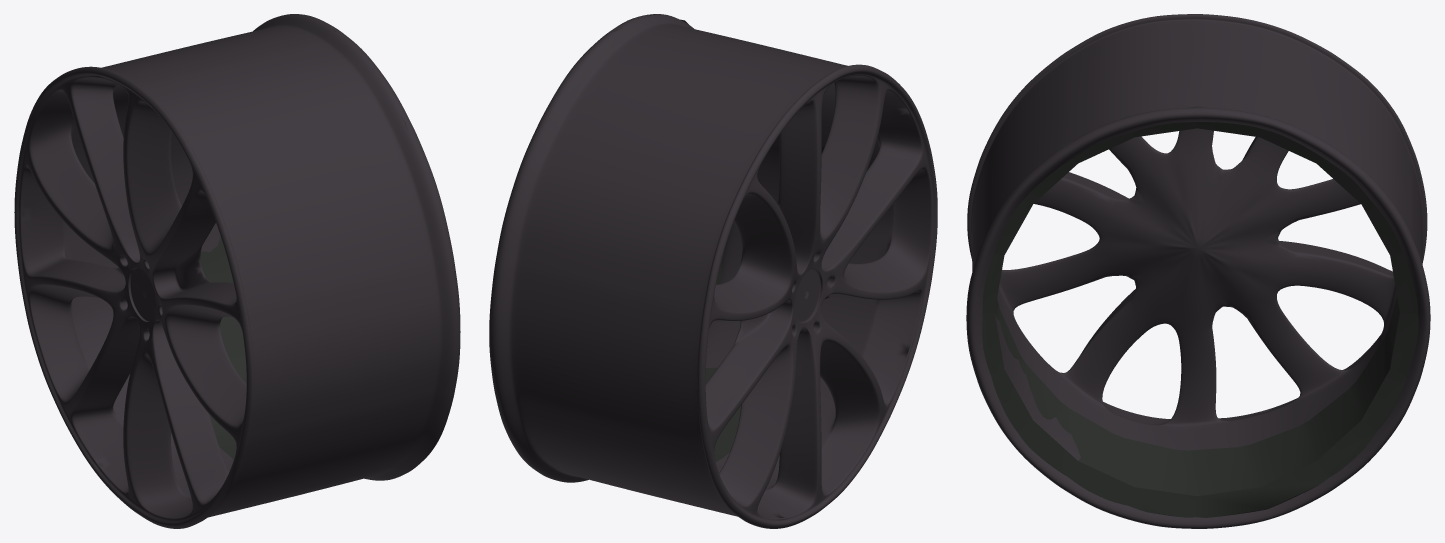
The model's file is frontleft1.glb.
3 renders of one model, left to right at view 1: azimuth 30°, elevation 25°; view 2: azimuth 150°, elevation 25°; view 3: azimuth 270°, elevation 25°, orthographic. The views are drawn at different scales.
Visible parts, largest first — view 1: Front Left WHeel; view 2: Front Left WHeel; view 3: Front Left WHeel.
Boxes of the visible parts, box(x1,y1,x2,y2) form: Front Left WHeel: box(14, 14, 460, 528); Front Left WHeel: box(489, 14, 937, 528); Front Left WHeel: box(966, 14, 1430, 528).
Size of the model in its own units: 0.302 by 0.5791 by 0.5786.
Materials: 1 (1 with a texture image).
